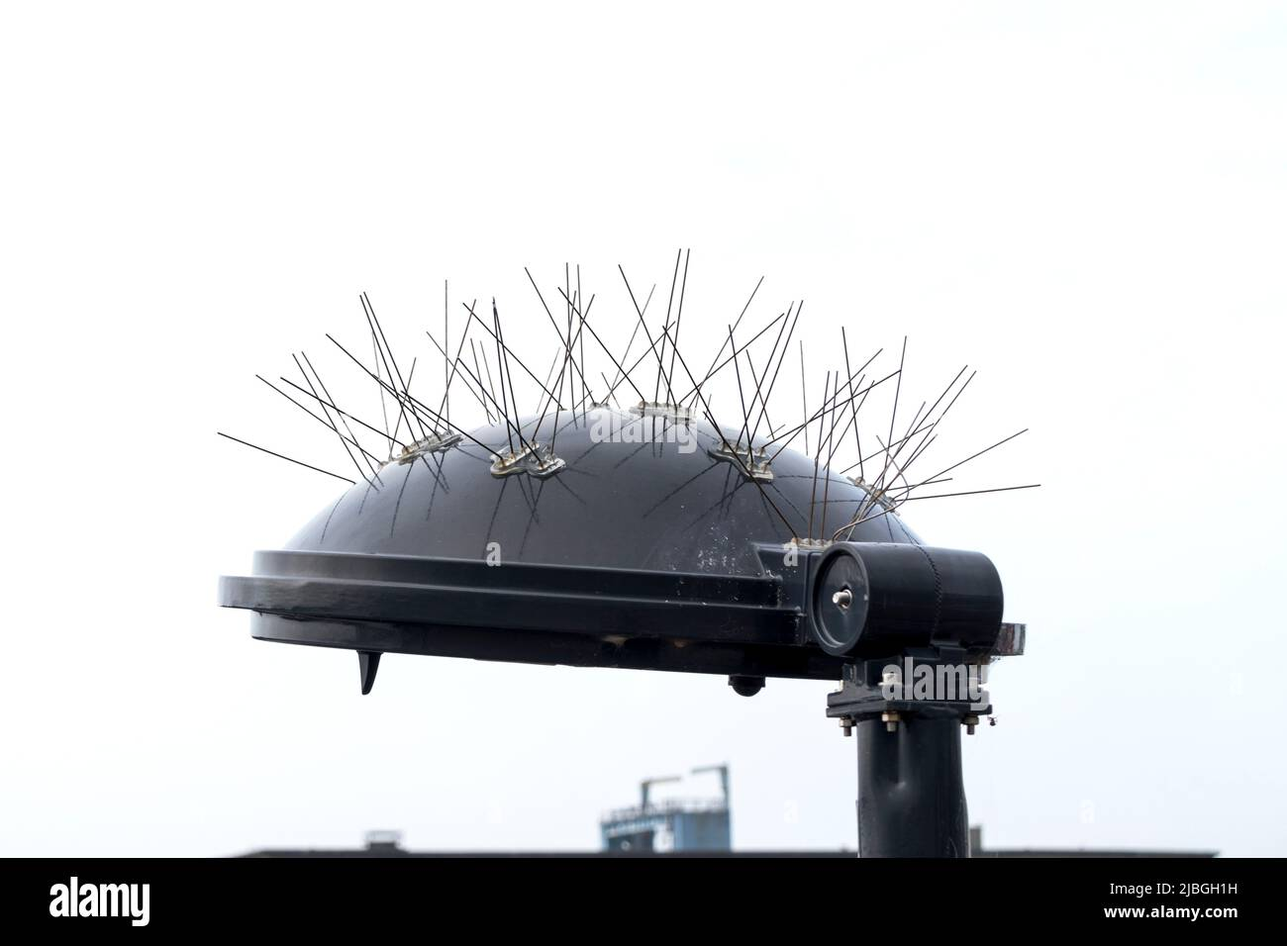Top_Street_Light: (202, 384, 1079, 677)
